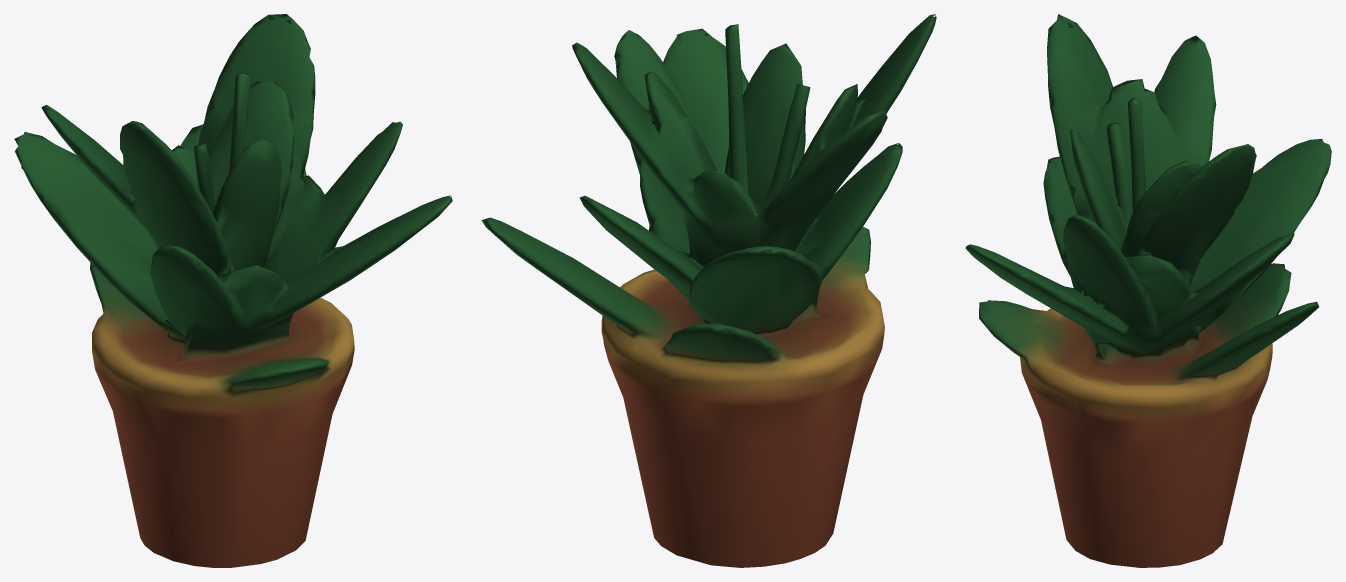
Rendered from lumiere-potted-plant.glb.
3 views of the same model, side by side, from view 1: azimuth 30°, elevation 25°; view 2: azimuth 150°, elevation 25°; view 3: azimuth 270°, elevation 25° (orthographic). The views are drawn at different scales.
Parts seen in each view (by area): view 1: lumiere-potted-plant_LOD0; view 2: lumiere-potted-plant_LOD0; view 3: lumiere-potted-plant_LOD0.
Part boxes in pixels (x1,y1,x2,y2): lumiere-potted-plant_LOD0: (14,14,452,567); lumiere-potted-plant_LOD0: (481,14,936,567); lumiere-potted-plant_LOD0: (965,14,1331,567).
Size of what is drawn, in the model's own units: 0.6481 by 0.9433 by 0.6843.
